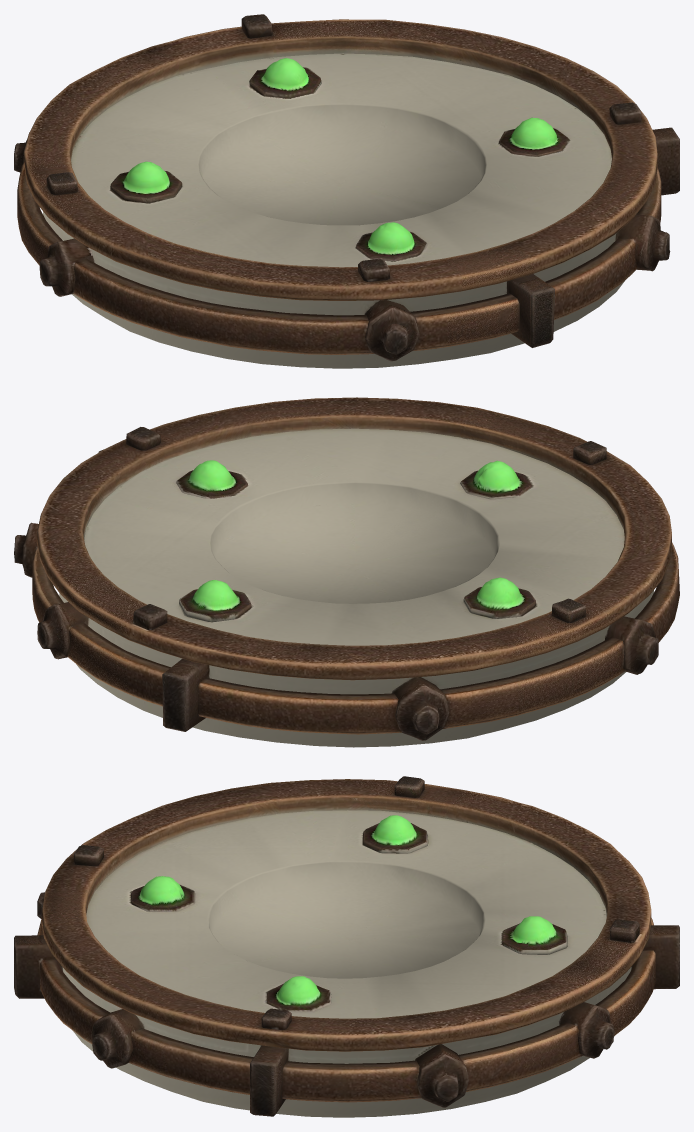
File: tripo_convert_06fba1f1-6bb7-4b3b-8d30-81849d419850.fbx
3 renders of one model, top to bottom at view 1: azimuth 30°, elevation 25°; view 2: azimuth 150°, elevation 25°; view 3: azimuth 270°, elevation 25°, orthographic. The views are drawn at different scales.
Parts seen in each view (by area): view 1: tripo_node_06fba1f1; view 2: tripo_node_06fba1f1; view 3: tripo_node_06fba1f1.
Boxes of the visible parts, x1=… form: tripo_node_06fba1f1: x1=14, y1=14, x2=679, y2=368; tripo_node_06fba1f1: x1=14, y1=397, x2=679, y2=747; tripo_node_06fba1f1: x1=14, y1=776, x2=679, y2=1117.
Size of the model in its own units: 0.9863 by 0.1699 by 0.998.
Materials: 1 (1 with a texture image).
